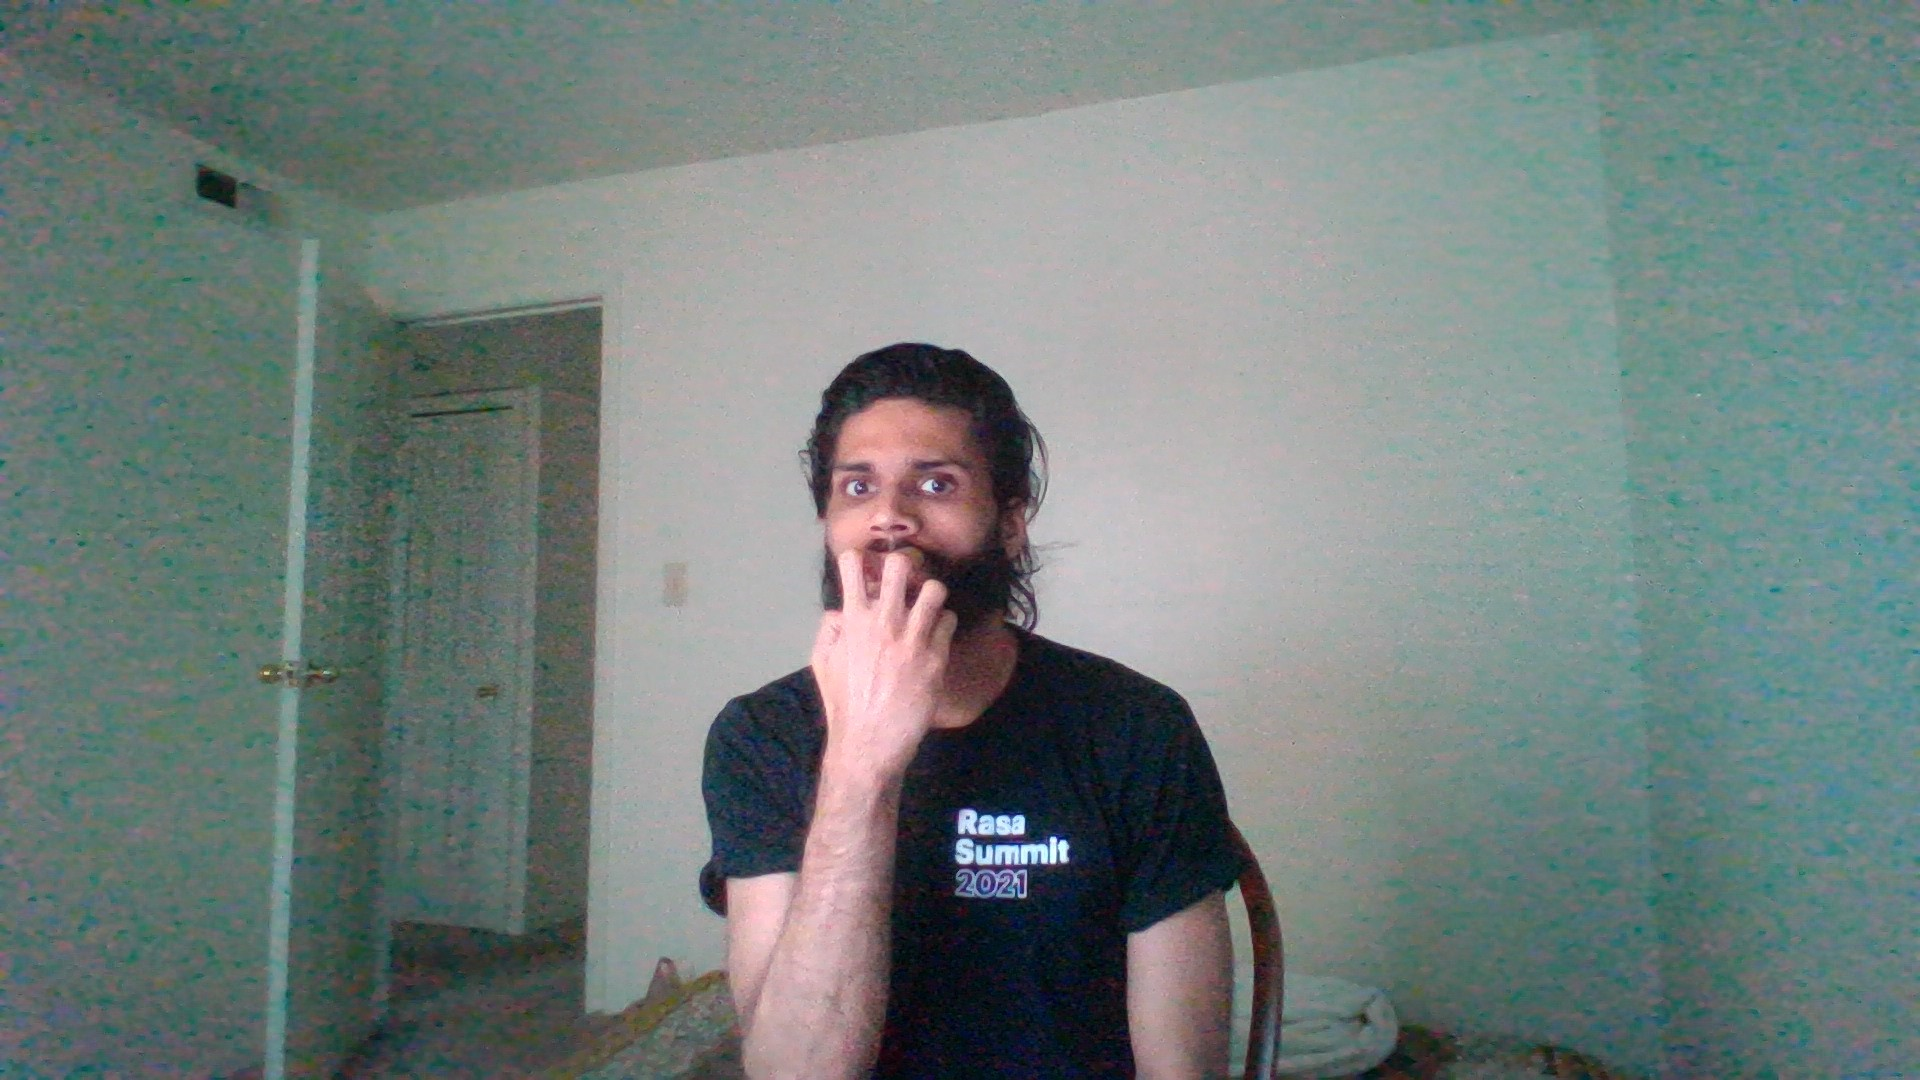Mad: (774, 541, 990, 766)
